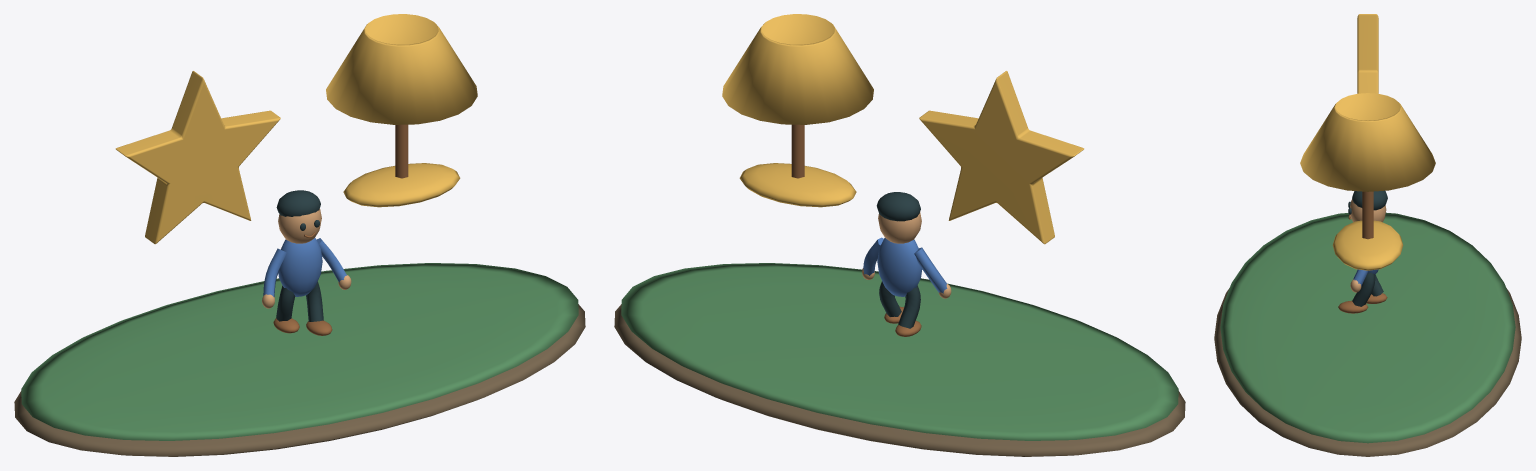
Rendered from complete-second-essence-spirit.glb.
3 renders of one model, left to right at view 1: azimuth 30°, elevation 25°; view 2: azimuth 150°, elevation 25°; view 3: azimuth 270°, elevation 25°, orthographic. The views are drawn at different scales.
Visible parts, largest first — view 1: complete-second-essence-spirit_surface_01, complete-second-essence-spirit_surface_02, complete-second-essence-spirit_surface_00, complete-second-essence-spirit_surface_06, complete-second-essence-spirit_surface_05, complete-second-essence-spirit_surface_03, complete-second-essence-spirit_surface_04; view 2: complete-second-essence-spirit_surface_01, complete-second-essence-spirit_surface_02, complete-second-essence-spirit_surface_00, complete-second-essence-spirit_surface_06, complete-second-essence-spirit_surface_05, complete-second-essence-spirit_surface_03, complete-second-essence-spirit_surface_04; view 3: complete-second-essence-spirit_surface_01, complete-second-essence-spirit_surface_02, complete-second-essence-spirit_surface_00, complete-second-essence-spirit_surface_05, complete-second-essence-spirit_surface_03, complete-second-essence-spirit_surface_04.
Part boxes in pixels (box(x1,y1,x2,y2)): complete-second-essence-spirit_surface_01: box(21, 263, 578, 440); complete-second-essence-spirit_surface_02: box(115, 14, 477, 244); complete-second-essence-spirit_surface_00: box(14, 304, 585, 456); complete-second-essence-spirit_surface_06: box(263, 238, 346, 296); complete-second-essence-spirit_surface_05: box(276, 190, 323, 321); complete-second-essence-spirit_surface_03: box(273, 124, 408, 335); complete-second-essence-spirit_surface_04: box(262, 209, 351, 308); complete-second-essence-spirit_surface_01: box(621, 263, 1178, 440); complete-second-essence-spirit_surface_02: box(722, 14, 1084, 244); complete-second-essence-spirit_surface_00: box(614, 304, 1185, 456); complete-second-essence-spirit_surface_06: box(863, 237, 947, 296); complete-second-essence-spirit_surface_05: box(876, 192, 920, 328); complete-second-essence-spirit_surface_03: box(791, 124, 921, 336); complete-second-essence-spirit_surface_04: box(862, 212, 951, 298); complete-second-essence-spirit_surface_01: box(1220, 212, 1515, 443); complete-second-essence-spirit_surface_02: box(1300, 14, 1435, 270); complete-second-essence-spirit_surface_00: box(1214, 288, 1521, 456); complete-second-essence-spirit_surface_05: box(1348, 190, 1387, 306); complete-second-essence-spirit_surface_03: box(1338, 191, 1387, 313); complete-second-essence-spirit_surface_04: box(1350, 199, 1386, 292).
Size of the model in its own units: 4.56 by 2.64 by 2.5.
